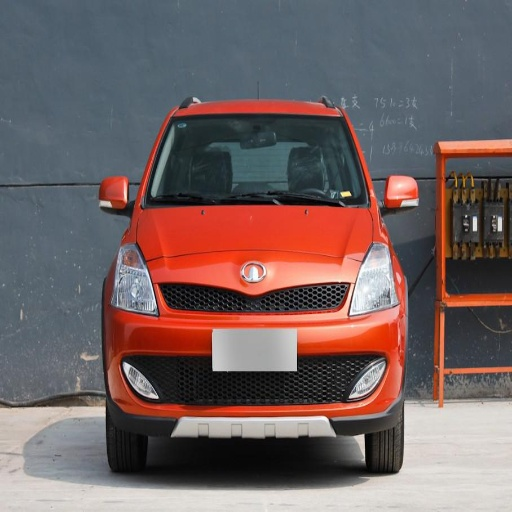front_bumper: (107, 280, 402, 434), (151, 251, 250, 278)
front_right_light: (109, 244, 159, 317)
hood: (135, 207, 375, 293)
left_mirror: (382, 175, 418, 214)
